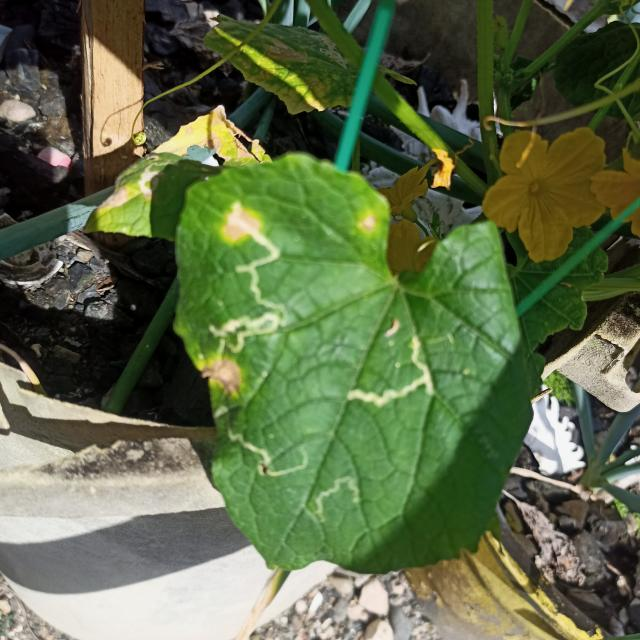disease_cucumber: (202, 354, 243, 400), (220, 208, 260, 245), (356, 210, 382, 238)
